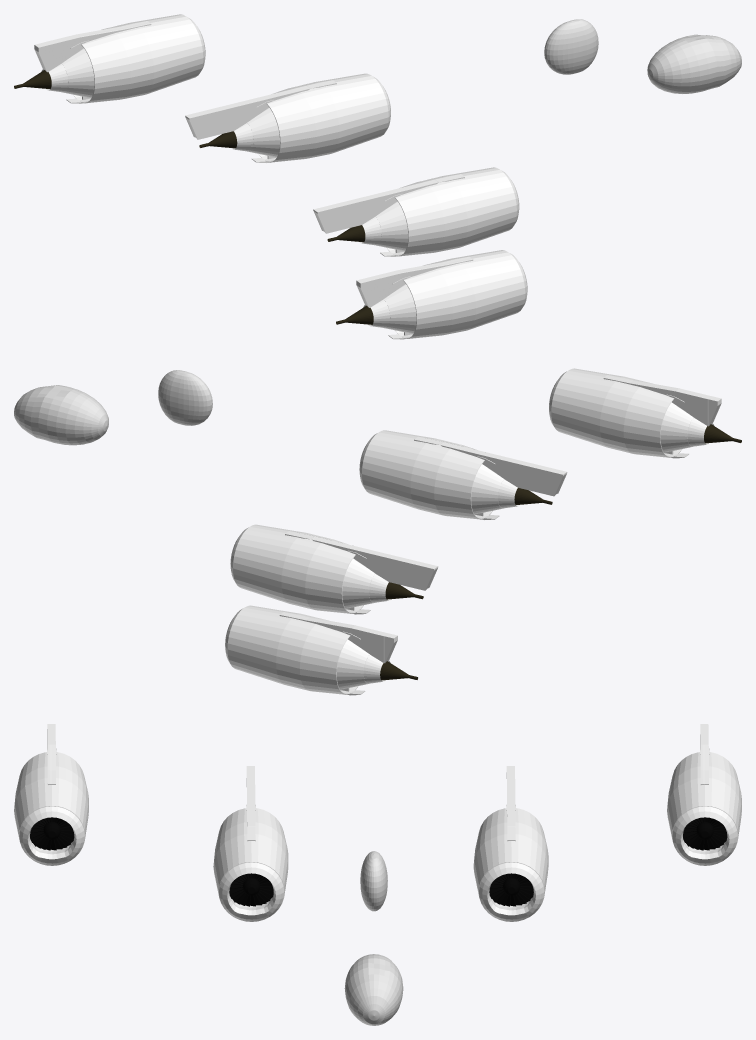
3 views of the same model, one above another, from view 1: azimuth 30°, elevation 25°; view 2: azimuth 150°, elevation 25°; view 3: azimuth 270°, elevation 25° (orthographic).
Visible parts, largest first — view 1: 立方体.001, 立方体, 立方体.002, 立方体.003, 球, 球.001, 円柱.008, 円柱.011, 円柱.002, 円柱.004; view 2: 立方体, 立方体.001, 立方体.003, 立方体.002, 球, 球.001, 円柱.011, 円柱.008, 円柱.004, 円柱.002; view 3: 立方体.001, 立方体, 立方体.002, 立方体.003, 球, 円柱.003, 円柱.001, 円柱.006, 円柱.010, 球.001, 円柱.007, 円柱.005 (+2 smaller).
Boxes of the visible parts, x1,y1,x2,y2 form: 立方体.001: (313, 167, 516, 256); 立方体: (185, 73, 388, 162); 立方体.002: (34, 14, 202, 103); 立方体.003: (356, 250, 524, 339); 球: (647, 34, 741, 93); 球.001: (544, 19, 598, 74); 円柱.008: (14, 48, 94, 98); 円柱.011: (336, 284, 416, 333); 円柱.002: (327, 201, 408, 251); 円柱.004: (199, 107, 279, 157); 立方体: (233, 524, 438, 614); 立方体.001: (362, 430, 567, 519); 立方体.003: (551, 368, 721, 458); 立方体.002: (227, 605, 397, 695); 球: (14, 385, 108, 445); 球.001: (158, 370, 212, 425); 円柱.011: (660, 402, 741, 452); 円柱.008: (337, 639, 417, 689); 円柱.004: (342, 558, 423, 608); 円柱.002: (471, 464, 552, 514); 立方体.001: (213, 766, 288, 911); 立方体: (473, 766, 548, 911); 立方体.002: (667, 724, 741, 854); 立方体.003: (14, 724, 88, 853); 球: (344, 954, 403, 1025); 円柱.003: (479, 862, 544, 921); 円柱.001: (219, 862, 284, 921); 円柱.006: (672, 806, 737, 865); 円柱.010: (19, 806, 84, 865); 球.001: (360, 851, 387, 911); 円柱.007: (489, 873, 533, 906); 円柱.005: (229, 873, 273, 906).
Bounding box in the file's own units: 22.45 × 5.16 × 24.84.
